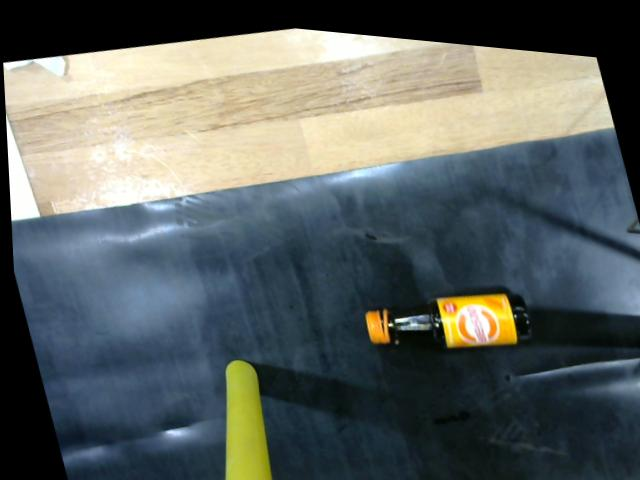glass: (357, 271, 537, 346)
